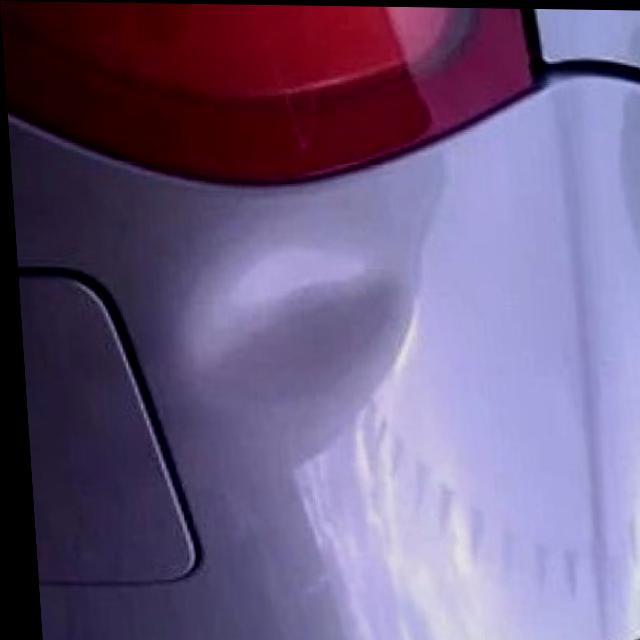Dent: (179, 236, 418, 416)
